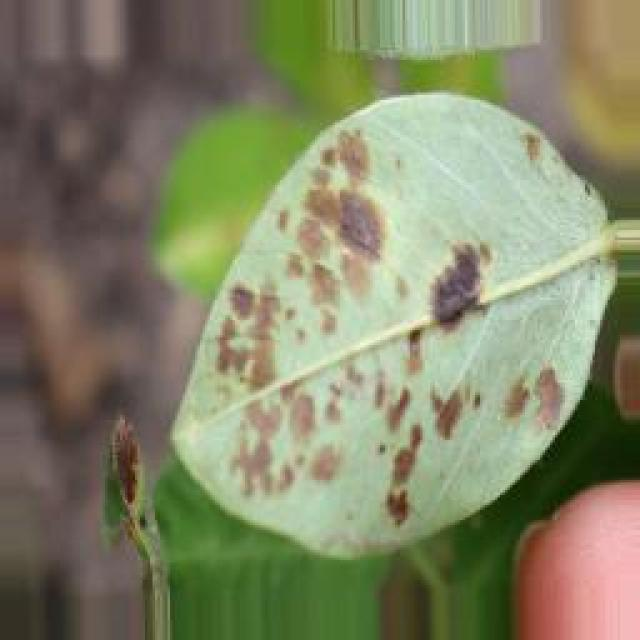Whitefly: (110, 80, 599, 538)
